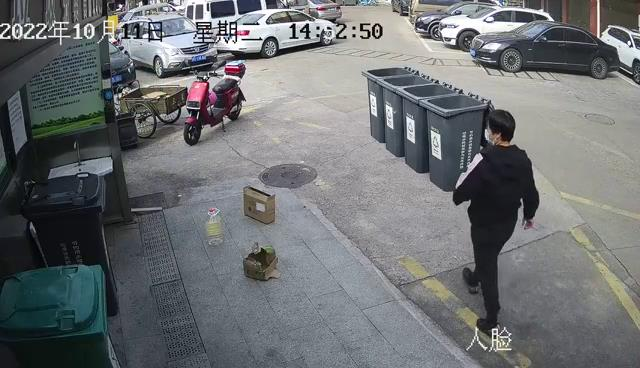person: (447, 105, 544, 340)
suliaozhipin: (202, 206, 226, 249)
zhizhipin: (241, 239, 283, 284), (240, 182, 281, 228)
